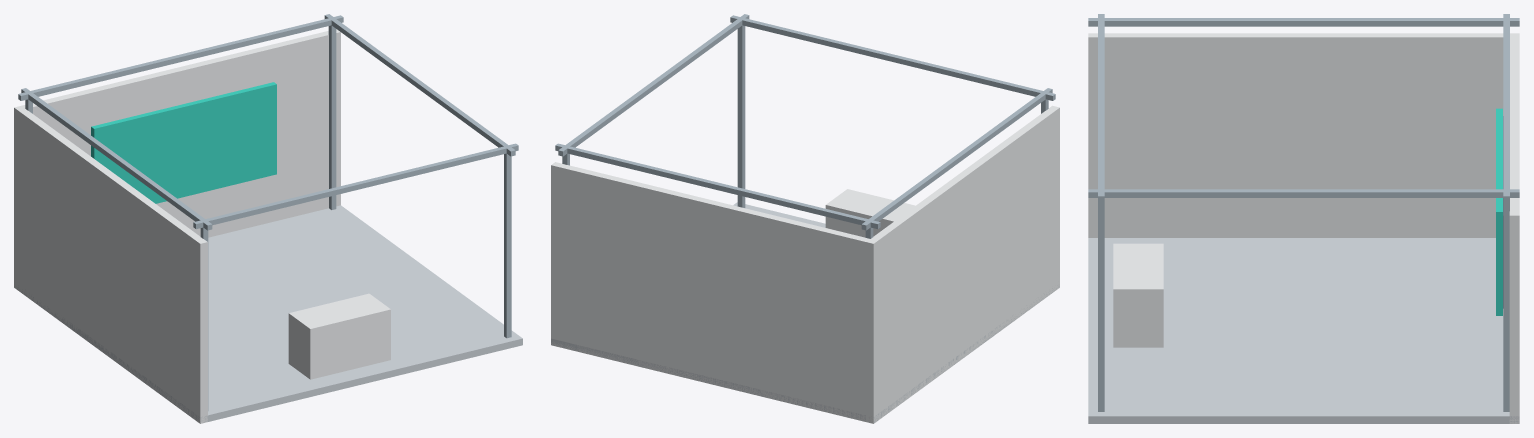
The picture shows the model from 3 angles, left to right: view 1: azimuth 30°, elevation 25°; view 2: azimuth 150°, elevation 25°; view 3: azimuth 270°, elevation 25°; orthographic projection. The views are drawn at different scales.
Parts seen in each view (by area): view 1: Exhibition Booth Concept; view 2: Exhibition Booth Concept; view 3: Exhibition Booth Concept.
Part boxes in pixels (box(x1,y1,x2,y2)): Exhibition Booth Concept: box(14, 14, 522, 423); Exhibition Booth Concept: box(551, 14, 1059, 423); Exhibition Booth Concept: box(1088, 14, 1519, 423).
Size of the model in its own units: 6 by 3.49 by 6.
